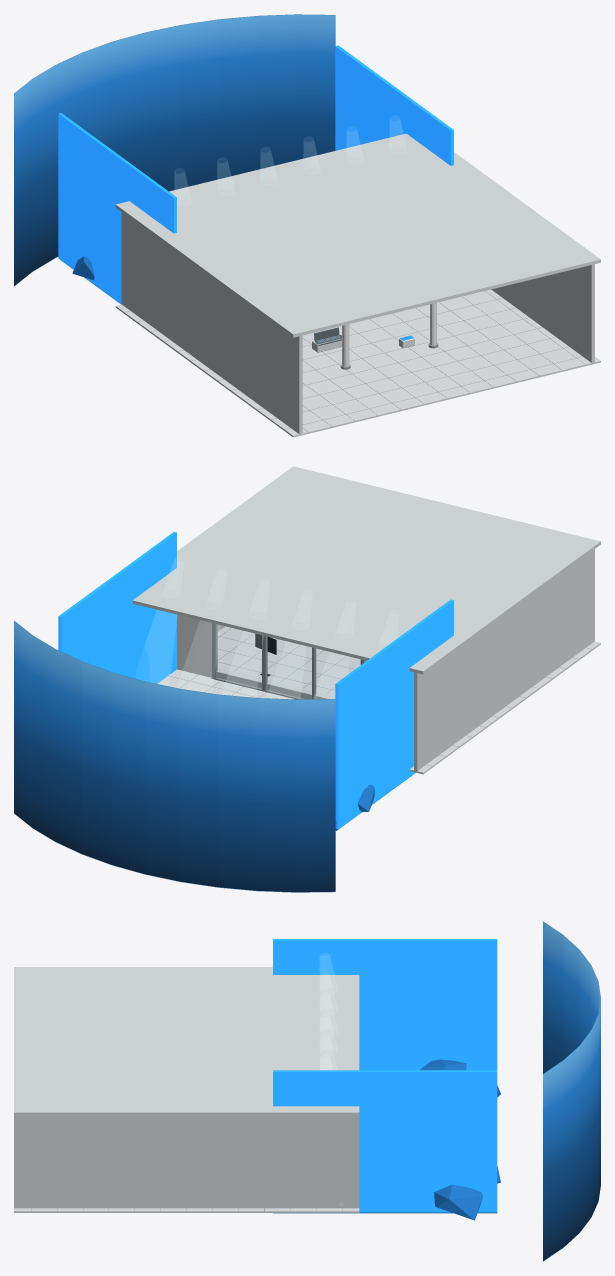
Rendered from room5.glb.
3 renders of one model, top to bottom at view 1: azimuth 30°, elevation 25°; view 2: azimuth 150°, elevation 25°; view 3: azimuth 270°, elevation 25°, orthographic. The views are drawn at different scales.
Visible parts, largest first — view 1: r5_shell, backdrop_room5_water, tank_interior, tank_shafts, r5_foreground, console; view 2: r5_shell, backdrop_room5_water, tank_interior, tank_shafts, tank_frame; view 3: r5_shell, tank_interior, backdrop_room5_water, tank_shafts.
Part boxes in pixels (x1,y1,x2,y2): r5_shell: (115, 133, 600, 437); backdrop_room5_water: (14, 14, 335, 286); tank_interior: (58, 45, 453, 304); tank_shafts: (175, 119, 406, 199); r5_foreground: (340, 302, 438, 369); console: (312, 327, 341, 352); r5_shell: (132, 466, 600, 774); backdrop_room5_water: (14, 620, 335, 892); tank_interior: (58, 532, 453, 830); tank_shafts: (145, 560, 398, 698); tank_frame: (211, 623, 365, 699); r5_shell: (14, 967, 359, 1212); tank_interior: (273, 939, 500, 1220); backdrop_room5_water: (543, 921, 600, 1261); tank_shafts: (320, 954, 337, 1069).
Size of the model in its own units: 41.94 by 24 by 68.
23 materials, 6 textured.
